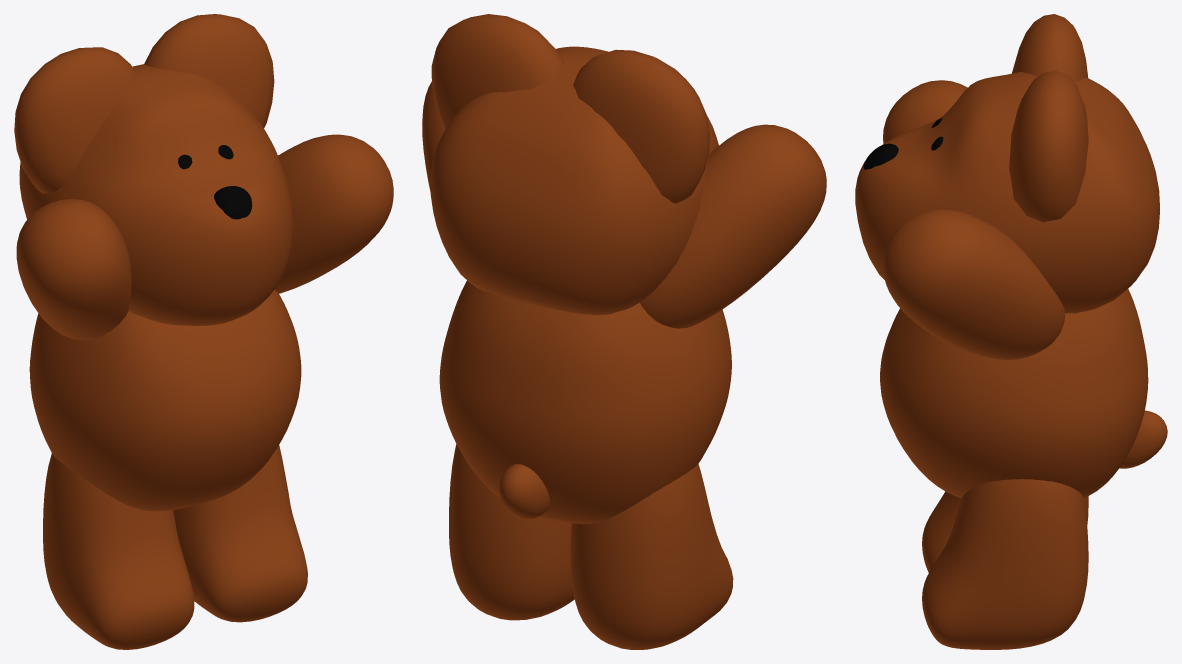
The model's file is wishbearSpline.glb.
3 views of the same model, side by side, from view 1: azimuth 30°, elevation 25°; view 2: azimuth 150°, elevation 25°; view 3: azimuth 270°, elevation 25° (orthographic). The views are drawn at different scales.
Parts seen in each view (by area): view 1: Toros, Cube, Cube 10, Cube 11, Cube 8, Cube 9, Cube 3, Cube 2, Cube 6; view 2: Toros, Cube, Cube 10, Cube 8, Cube 11, Cube 3, Cube 2, Tail, Cube 9; view 3: Toros, Cube, Cube 11, Cube 9, Cube 2, Cube 3, Cube 8, Cube 10, Tail, Cube 6.
Boxes of the visible parts, x1=… form: Toros: x1=29, y1=290, x2=301, y2=511; Cube: x1=19, y1=64, x2=292, y2=325; Cube 10: x1=43, y1=453, x2=194, y2=649; Cube 11: x1=173, y1=445, x2=307, y2=622; Cube 8: x1=16, y1=198, x2=131, y2=340; Cube 9: x1=274, y1=134, x2=393, y2=293; Cube 3: x1=14, y1=47, x2=137, y2=193; Cube 2: x1=144, y1=14, x2=274, y2=127; Cube 6: x1=214, y1=186, x2=252, y2=219; Toros: x1=439, y1=280, x2=731, y2=523; Cube: x1=430, y1=46, x2=718, y2=315; Cube 10: x1=570, y1=464, x2=733, y2=649; Cube 8: x1=640, y1=124, x2=826, y2=328; Cube 11: x1=449, y1=444, x2=574, y2=620; Cube 3: x1=573, y1=49, x2=709, y2=203; Cube 2: x1=431, y1=14, x2=564, y2=129; Tail: x1=499, y1=464, x2=549, y2=519; Cube 9: x1=422, y1=81, x2=444, y2=191; Toros: x1=880, y1=289, x2=1148, y2=498; Cube: x1=855, y1=72, x2=1159, y2=313; Cube 11: x1=922, y1=479, x2=1088, y2=649; Cube 9: x1=883, y1=209, x2=1065, y2=360; Cube 2: x1=1009, y1=71, x2=1088, y2=222; Cube 3: x1=1012, y1=14, x2=1088, y2=81; Cube 8: x1=883, y1=80, x2=967, y2=143; Cube 10: x1=922, y1=491, x2=1088, y2=572; Tail: x1=1120, y1=410, x2=1167, y2=468; Cube 6: x1=863, y1=143, x2=898, y2=169.
Size of the model in its own units: 17.84 by 26.97 by 13.53.
